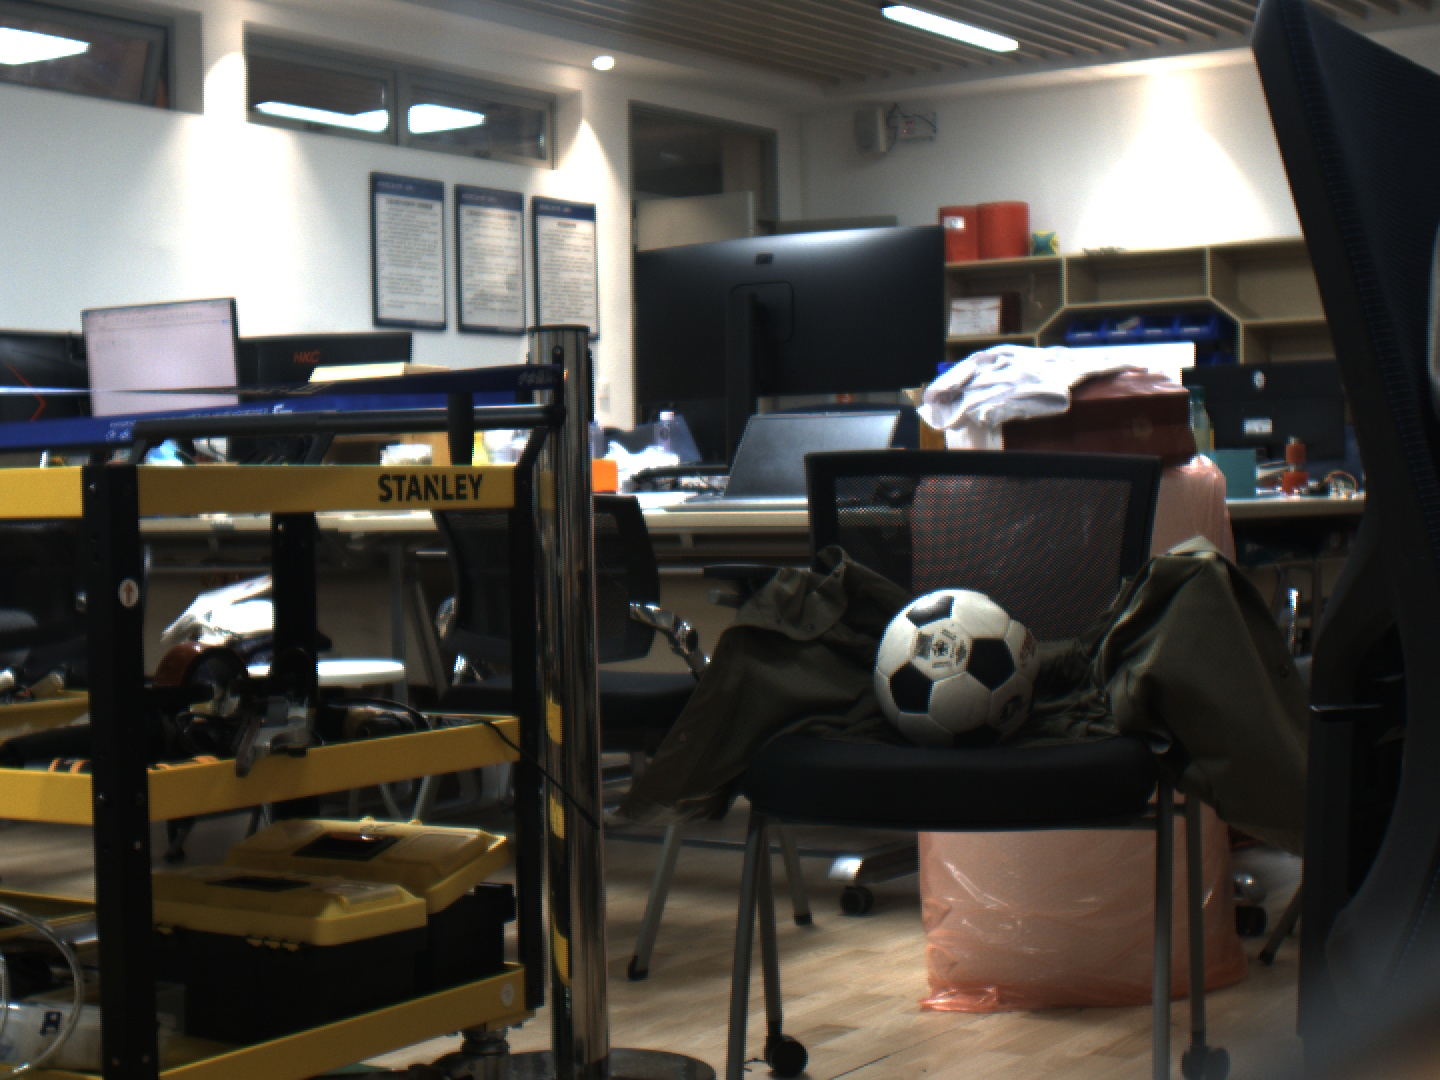ball: (850, 579, 1068, 763)
